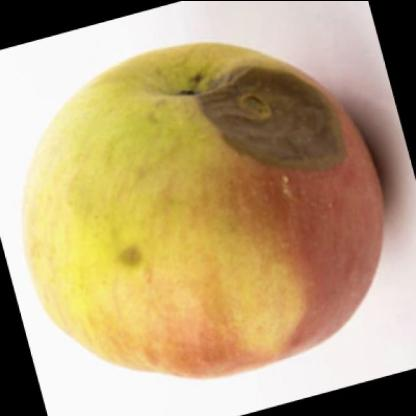defect: (193, 47, 362, 198)
